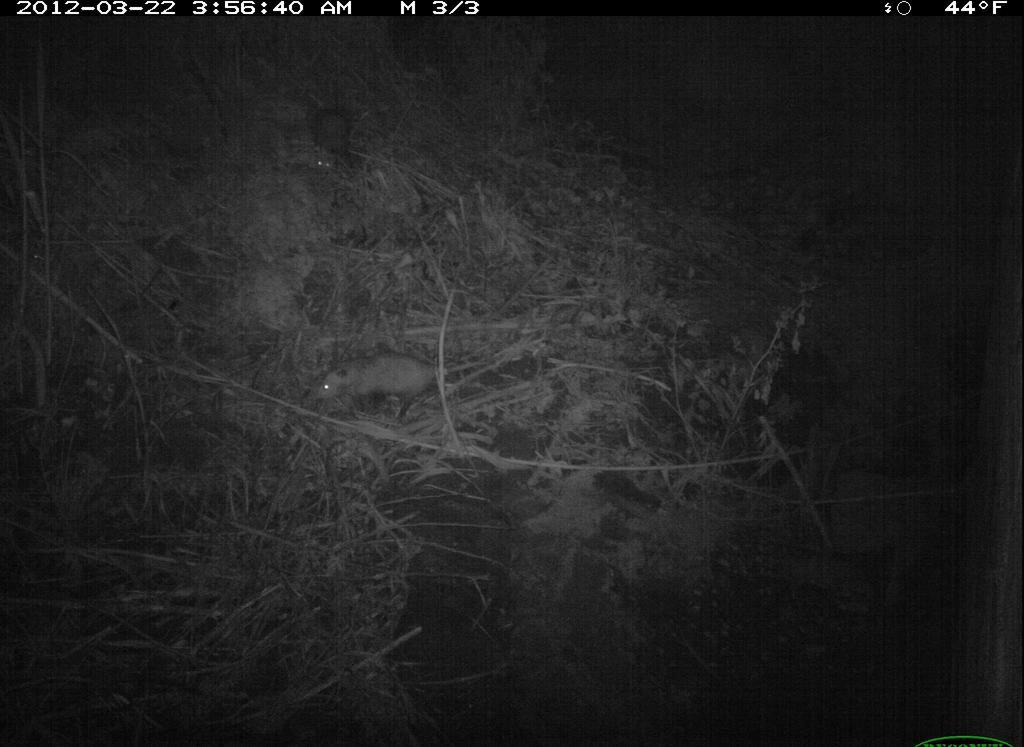opossum: (304, 340, 504, 429)
